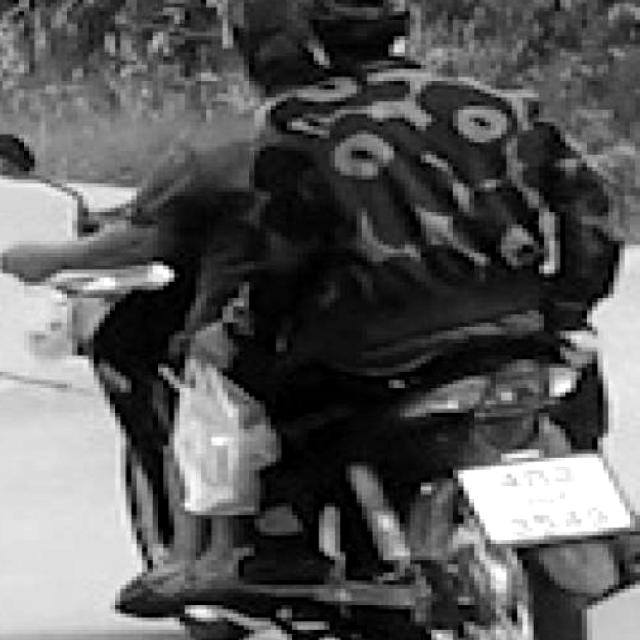letters: (491, 463, 520, 492), (548, 464, 575, 491), (590, 504, 616, 532), (559, 508, 582, 534), (524, 464, 543, 486), (512, 511, 528, 537), (539, 511, 551, 533)
license-plate: (454, 458, 640, 548)
province: (503, 487, 588, 510)
